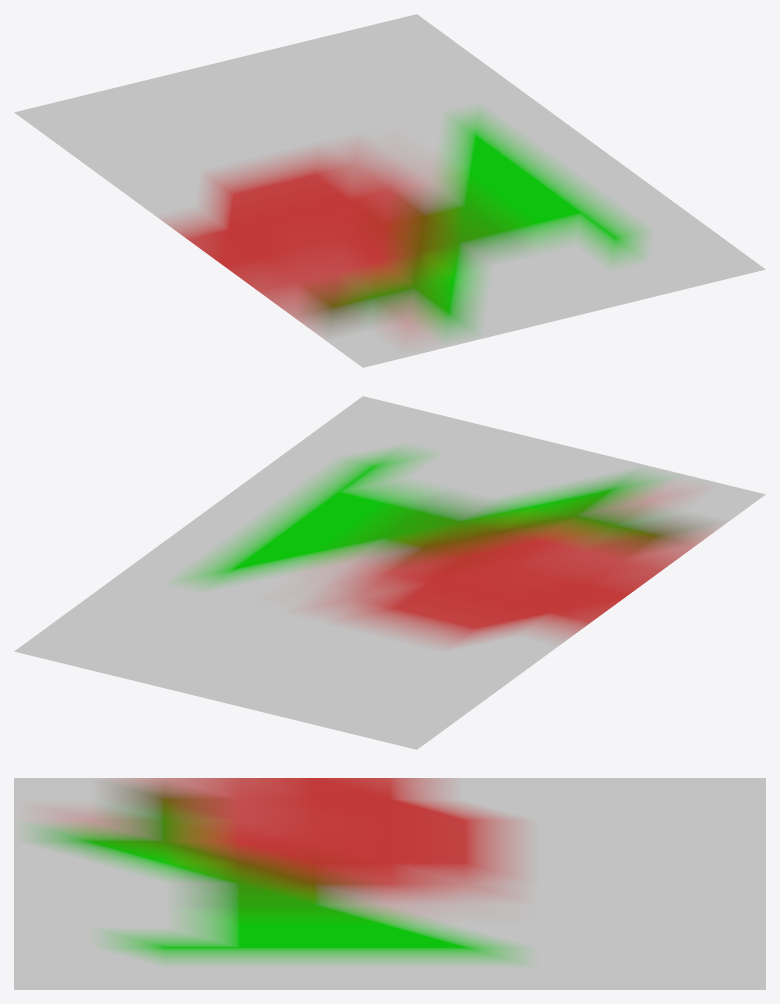
The model's file is Room_R_Floor.fbx.
3 views of the same model, one above another, from view 1: azimuth 30°, elevation 25°; view 2: azimuth 150°, elevation 25°; view 3: azimuth 270°, elevation 25° (orthographic). The views are drawn at different scales.
Parts seen in each view (by area): view 1: Floor_R; view 2: Floor_R; view 3: Floor_R.
Part boxes in pixels (x1,y1,x2,y2): Floor_R: (14,14,765,367); Floor_R: (14,396,765,749); Floor_R: (14,778,765,989).
Size of the model in its own units: 1400 by 2.22e-14 by 2100.
